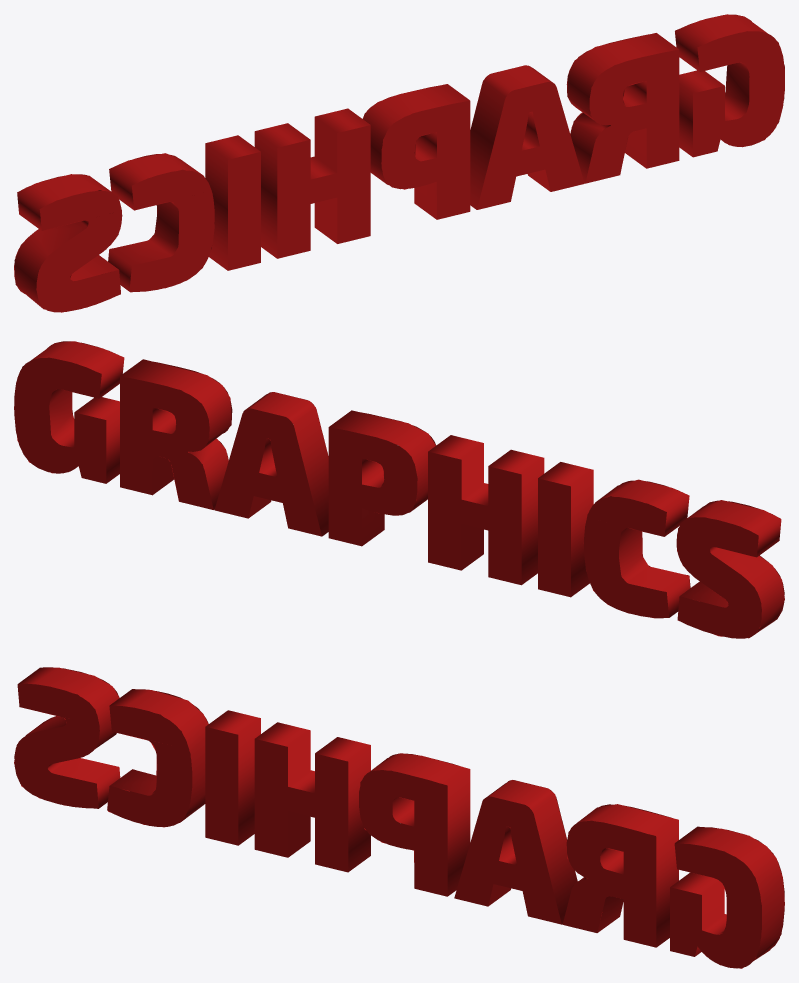
The model's file is graphics.fbx.
3 renders of one model, top to bottom at view 1: azimuth 30°, elevation 25°; view 2: azimuth 150°, elevation 25°; view 3: azimuth 330°, elevation 25°, orthographic.
Parts seen in each view (by area): view 1: Text; view 2: Text; view 3: Text.
Boxes of the visible parts, x1,y1,x2,y2 form: Text: (14, 14, 784, 312); Text: (14, 341, 784, 638); Text: (14, 667, 784, 968).
Size of the model in its own units: 15.25 by 2.26 by 0.8.
